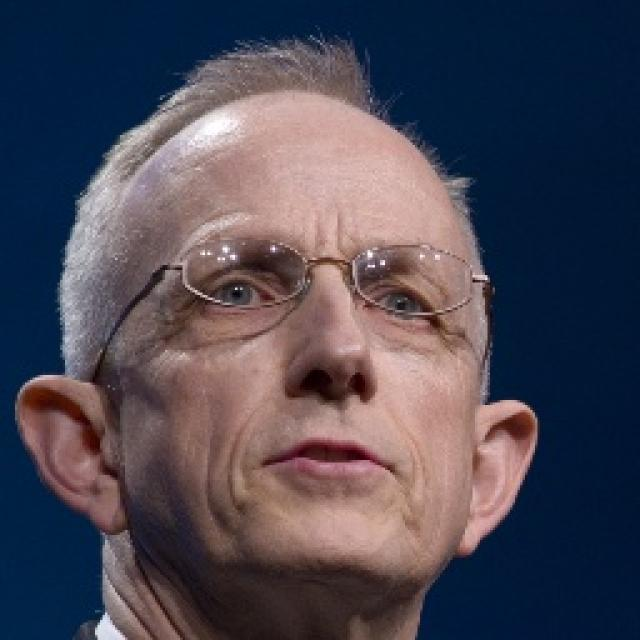earlobe: (83, 480, 130, 535), (453, 508, 488, 560)
eye: (203, 280, 278, 311), (371, 288, 434, 322)
nose: (293, 385, 372, 427)
wholeear: (12, 374, 130, 535), (453, 399, 538, 560)
